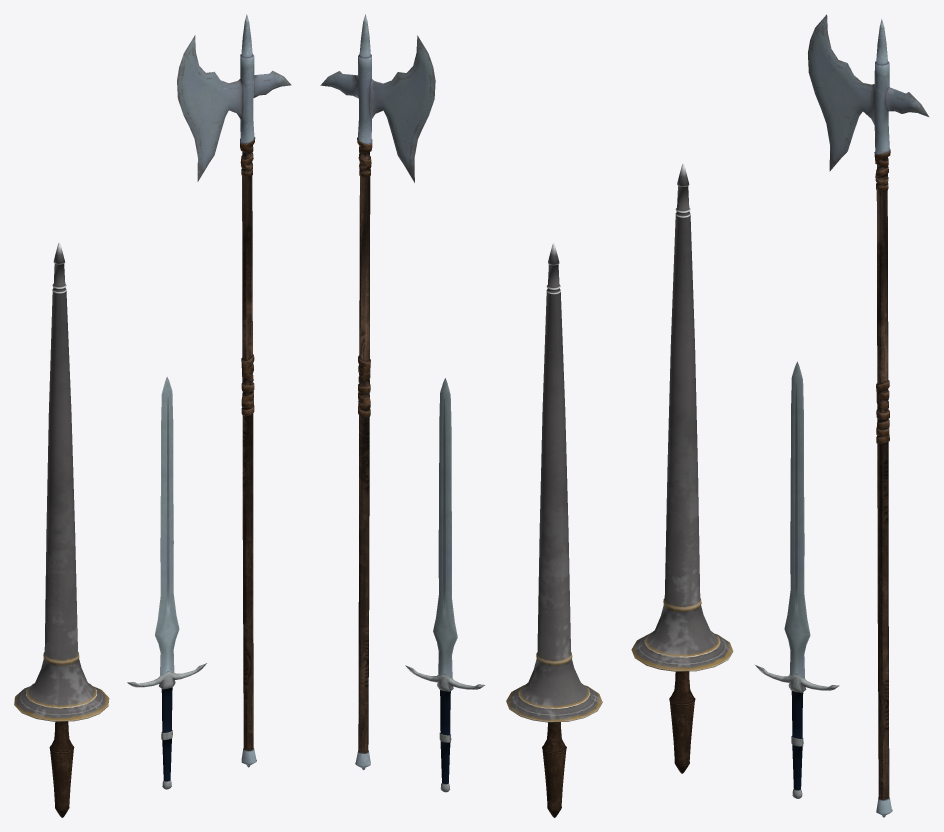
The model's file is 3 Weapon Pack.fbx.
3 views of the same model, side by side, from view 1: azimuth 30°, elevation 25°; view 2: azimuth 150°, elevation 25°; view 3: azimuth 330°, elevation 25° (orthographic). The views are drawn at different scales.
Parts seen in each view (by area): view 1: Spear-LowPoly, Plane.047, Sword-LowPoly; view 2: Spear-LowPoly, Plane.047, Sword-LowPoly; view 3: Spear-LowPoly, Plane.047, Sword-LowPoly.
Part boxes in pixels (bbox=[...]): Spear-LowPoly: bbox=[14, 241, 109, 817]; Plane.047: bbox=[177, 14, 291, 767]; Sword-LowPoly: bbox=[127, 377, 206, 789]; Spear-LowPoly: bbox=[506, 242, 602, 817]; Plane.047: bbox=[320, 14, 435, 770]; Sword-LowPoly: bbox=[405, 378, 485, 792]; Spear-LowPoly: bbox=[631, 163, 733, 773]; Plane.047: bbox=[808, 14, 928, 817]; Sword-LowPoly: bbox=[755, 361, 839, 798].
Bounding box in the file's own units: 83.01 × 220 × 25.29.
